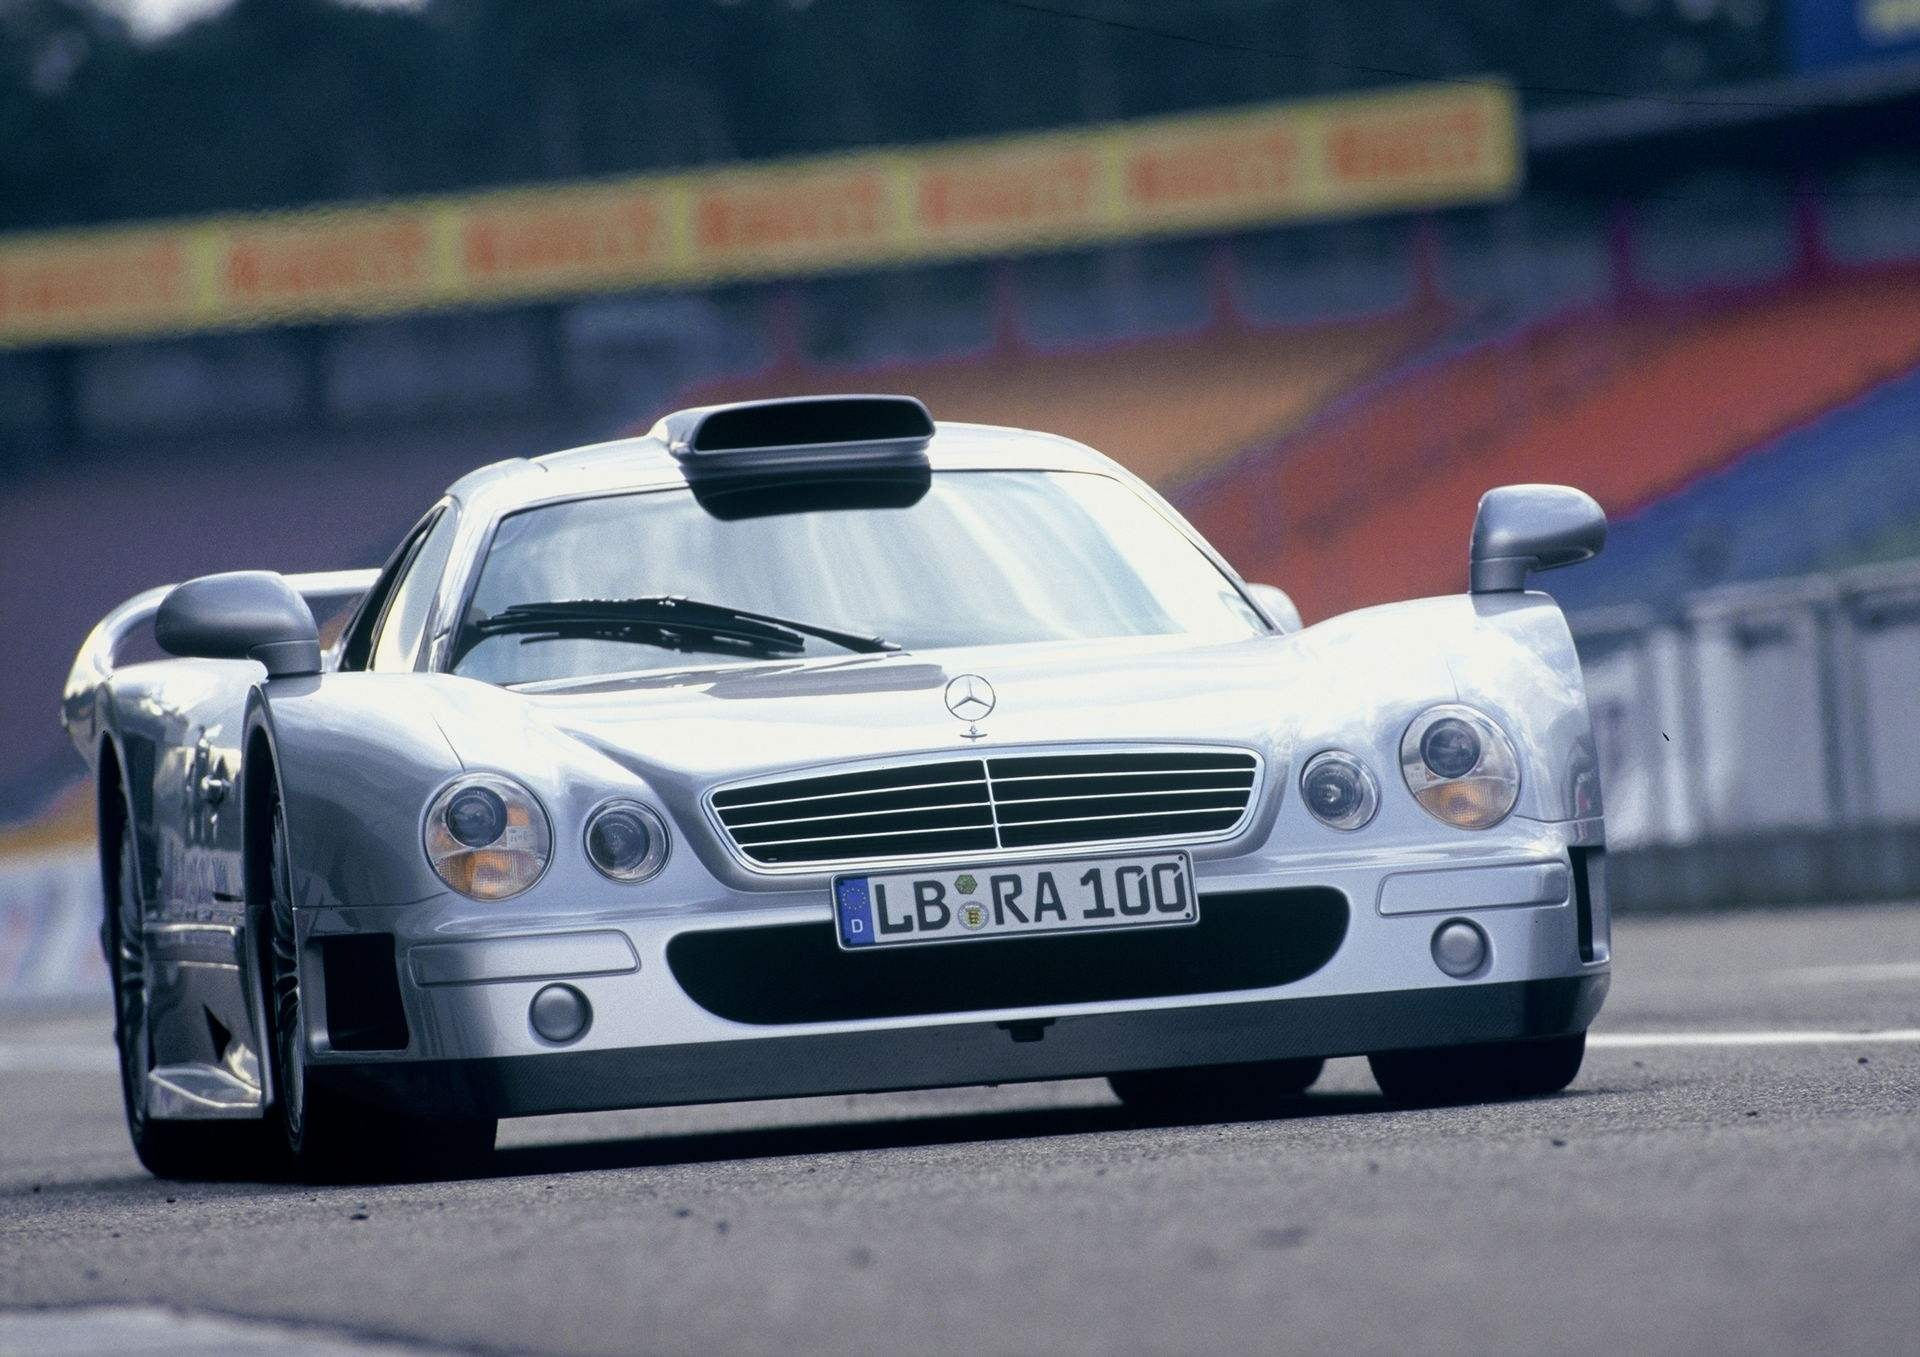racing car: (65, 388, 1619, 1179)
